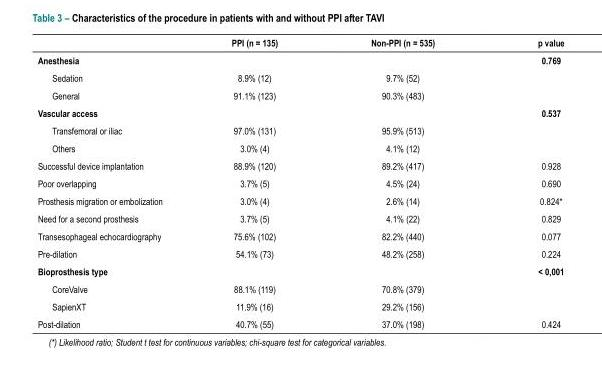table: (36, 36, 563, 329)
table column: (323, 36, 485, 329), (36, 36, 196, 329), (196, 36, 323, 329), (485, 36, 563, 329)
table column header: (36, 36, 563, 50)
table row: (36, 50, 563, 68), (36, 68, 563, 86), (36, 103, 563, 121), (36, 138, 563, 156), (36, 156, 563, 174), (36, 191, 563, 209), (36, 226, 563, 244), (36, 244, 563, 262), (36, 279, 563, 297), (36, 86, 563, 103), (36, 121, 563, 138), (36, 174, 563, 191), (36, 209, 563, 226), (36, 262, 563, 279), (36, 297, 563, 314), (36, 314, 563, 329), (36, 36, 563, 50)
